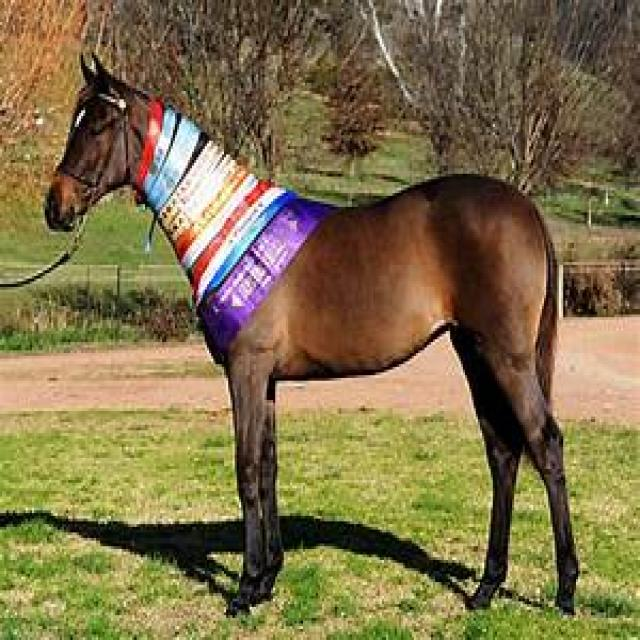horse: (47, 58, 582, 618)
